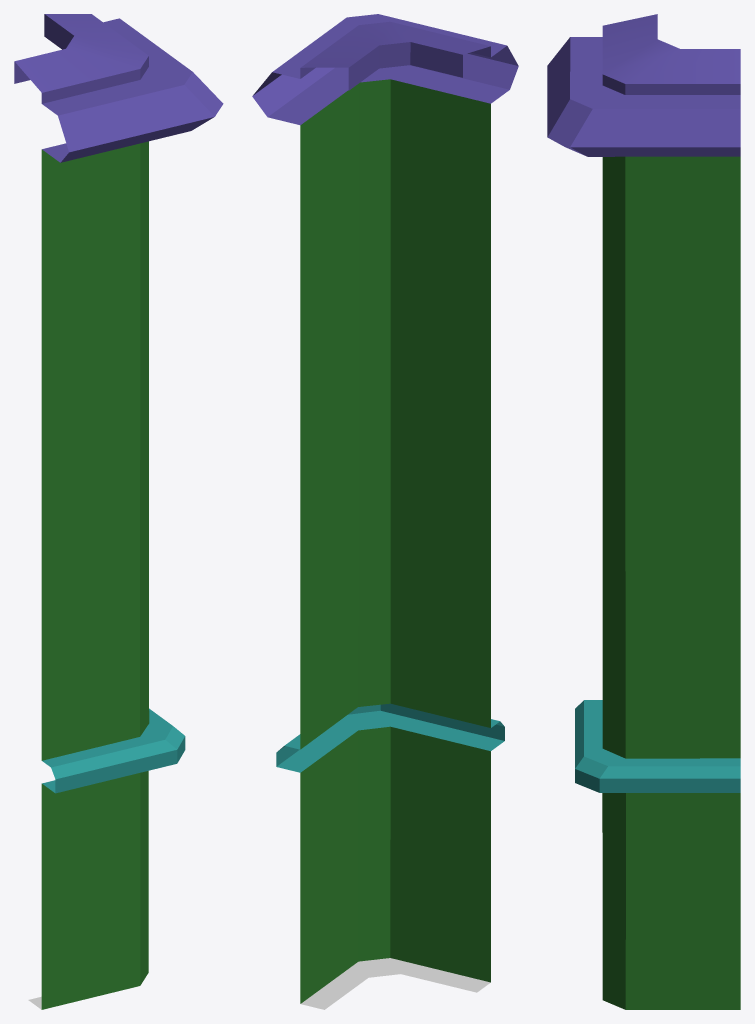
File: R_corner1.fbx
3 views of the same model, side by side, from view 1: azimuth 30°, elevation 25°; view 2: azimuth 150°, elevation 25°; view 3: azimuth 270°, elevation 25° (orthographic). The views are drawn at different scales.
Parts seen in each view (by area): view 1: R_corner1; view 2: R_corner1; view 3: R_corner1.
Boxes of the visible parts, bbox=[...] form: R_corner1: bbox=[14, 14, 223, 1009]; R_corner1: bbox=[252, 14, 518, 1009]; R_corner1: bbox=[547, 14, 740, 1009].
Size of the model in its own units: 50.22 by 269 by 50.22.
